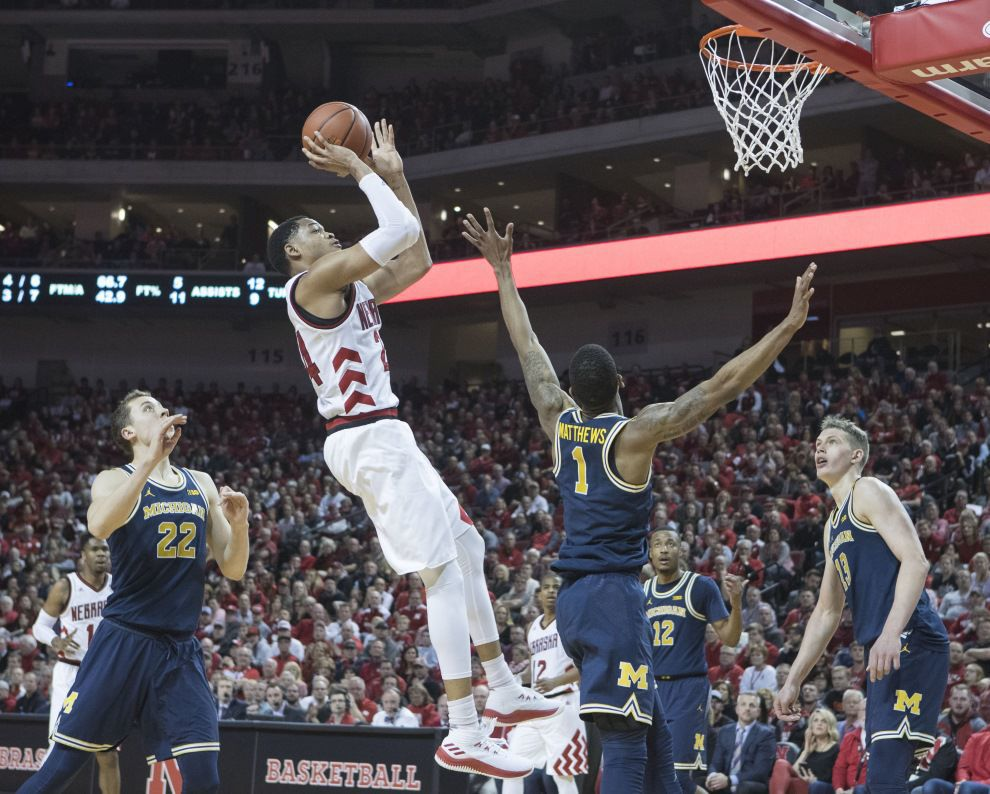ball: (291, 95, 384, 177)
basket: (673, 18, 848, 180)
defense: (446, 193, 821, 794)
shoot: (229, 73, 580, 791)
